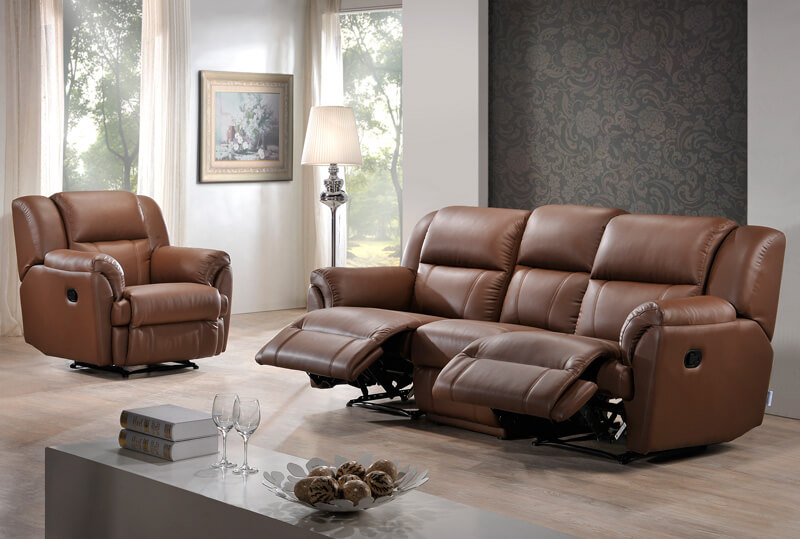chairs: (255, 193, 787, 466), (6, 183, 234, 388)
